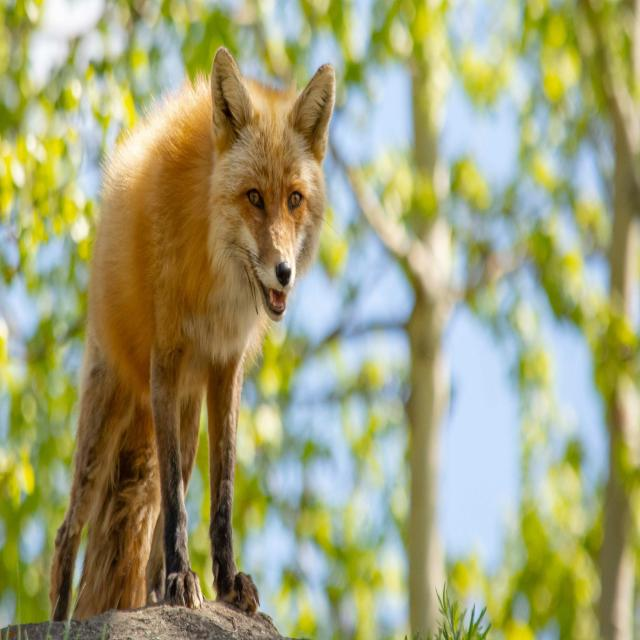fox: (48, 45, 337, 623)
